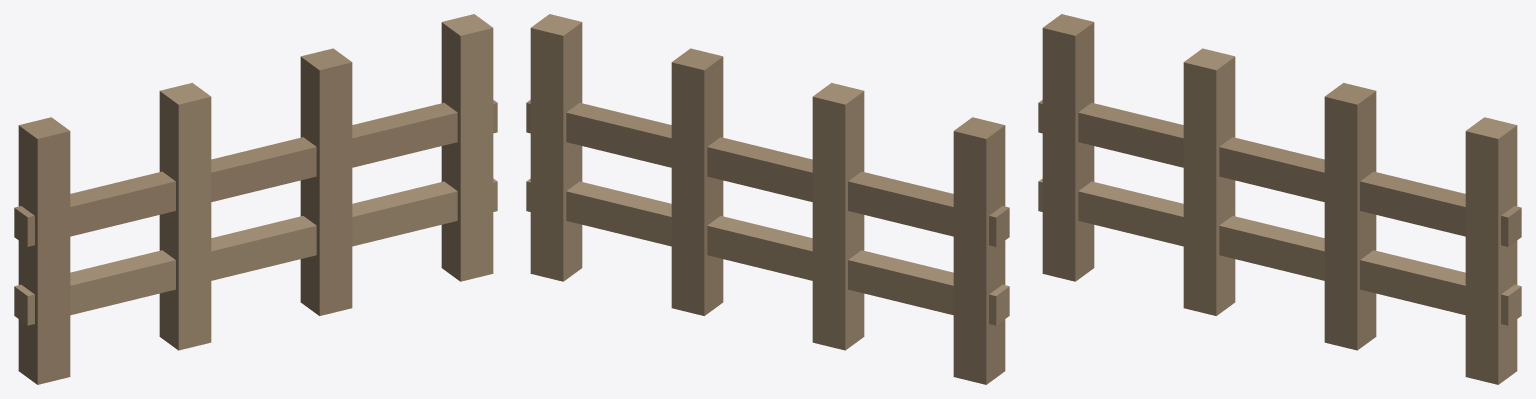
File: hek.glb
3 views of the same model, side by side, from view 1: azimuth 30°, elevation 25°; view 2: azimuth 150°, elevation 25°; view 3: azimuth 330°, elevation 25° (orthographic).
Parts seen in each view (by area): view 1: world; view 2: world; view 3: world.
Boxes of the visible parts, x1,y1,x2,y2 form: world: (14,14,497,384); world: (526,14,1009,384); world: (1038,14,1521,384).
Size of the model in its own units: 2 by 1 by 0.14.
